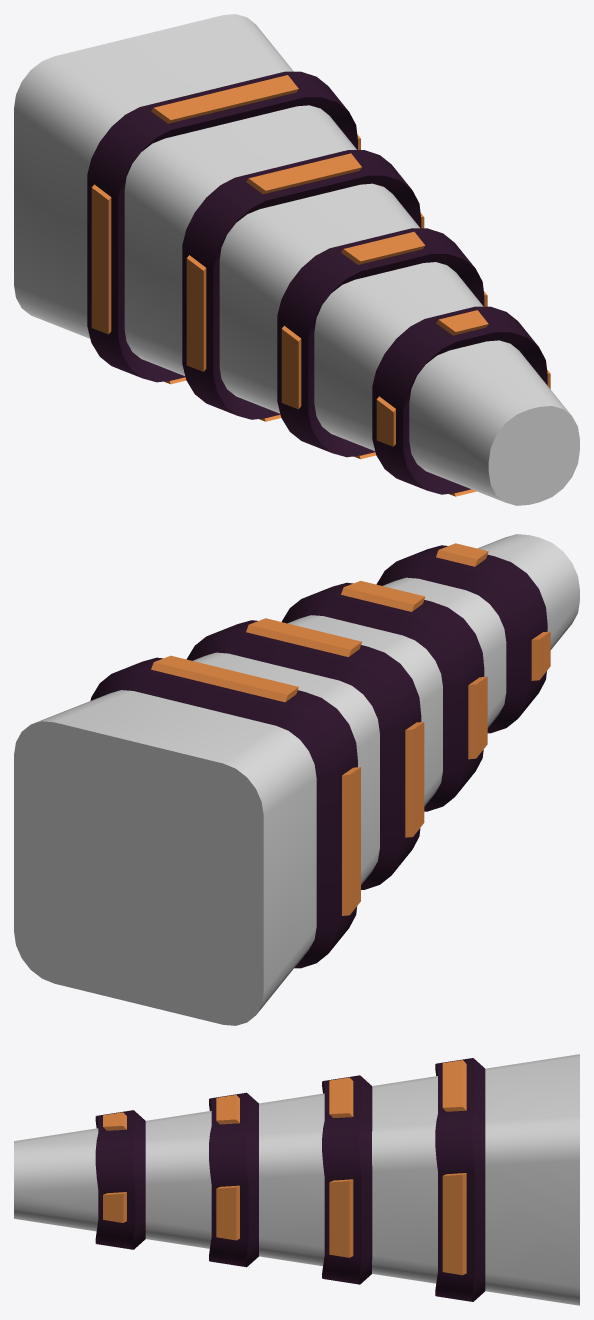
The model's file is shield_emitter_antenna.fbx.
The picture shows the model from 3 angles, top to bottom: view 1: azimuth 30°, elevation 25°; view 2: azimuth 150°, elevation 25°; view 3: azimuth 270°, elevation 25°; orthographic projection. The views are drawn at different scales.
Parts seen in each view (by area): view 1: Cube; view 2: Cube; view 3: Cube.
Part boxes in pixels (<box>): Cube: <box>14,14,579,505</box>; Cube: <box>14,534,579,1025</box>; Cube: <box>14,1054,579,1305</box>.
Bounding box in the file's own units: 207 × 207 × 549.
